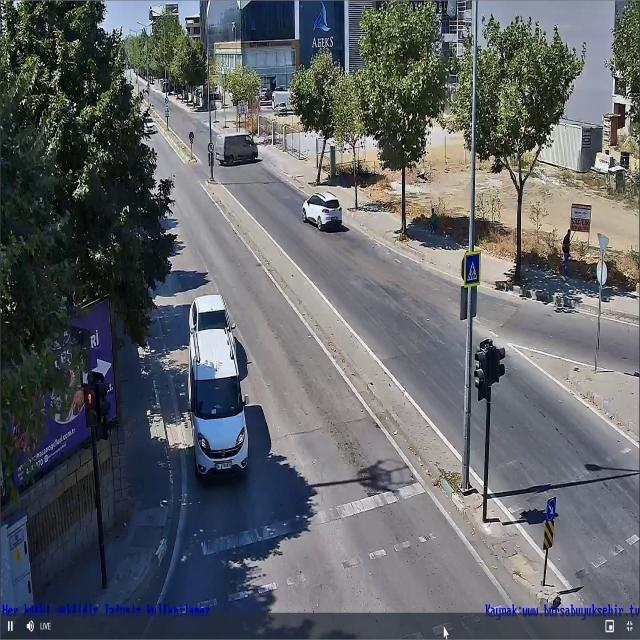Car: (188, 302, 235, 334), (304, 195, 338, 227), (143, 120, 159, 133)
Van: (193, 336, 244, 473), (216, 135, 255, 164), (272, 92, 306, 110)
